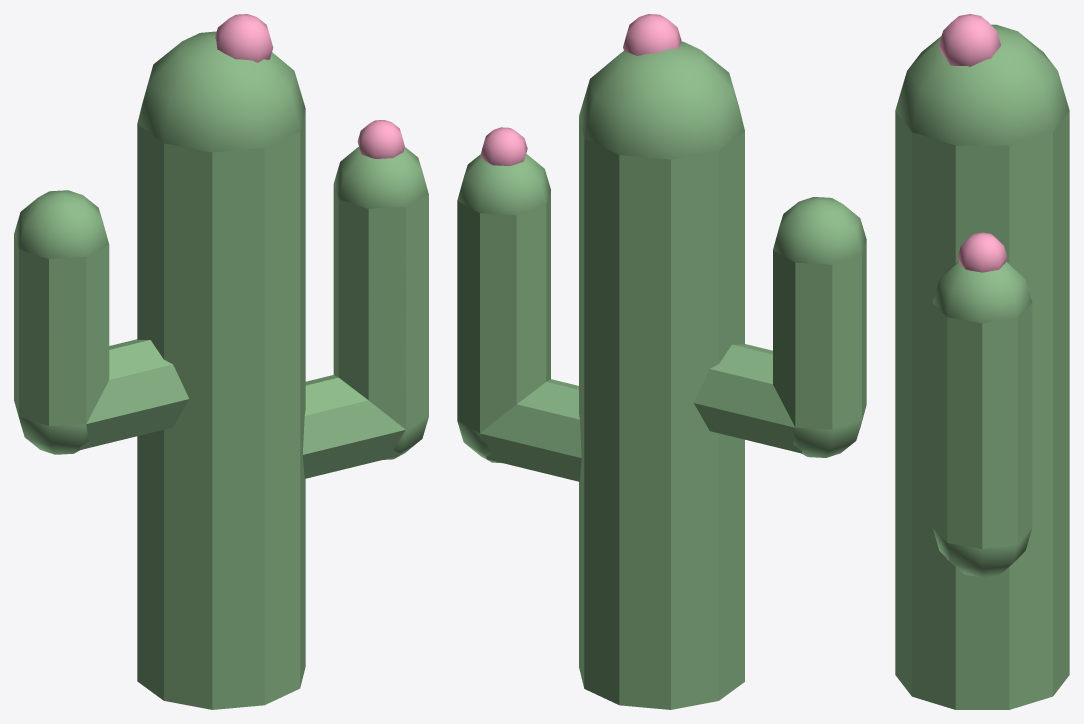
File: cactus.glb
3 renders of one model, left to right at view 1: azimuth 30°, elevation 25°; view 2: azimuth 150°, elevation 25°; view 3: azimuth 270°, elevation 25°, orthographic. The views are drawn at different scales.
Parts seen in each view (by area): view 1: cactus; view 2: cactus; view 3: cactus.
Boxes of the visible parts, <box> form: cactus: <box>14,14,428,709</box>; cactus: <box>457,14,866,709</box>; cactus: <box>895,14,1069,709</box>.
Size of the model in its own units: 0.76 by 1.18 by 0.28.
